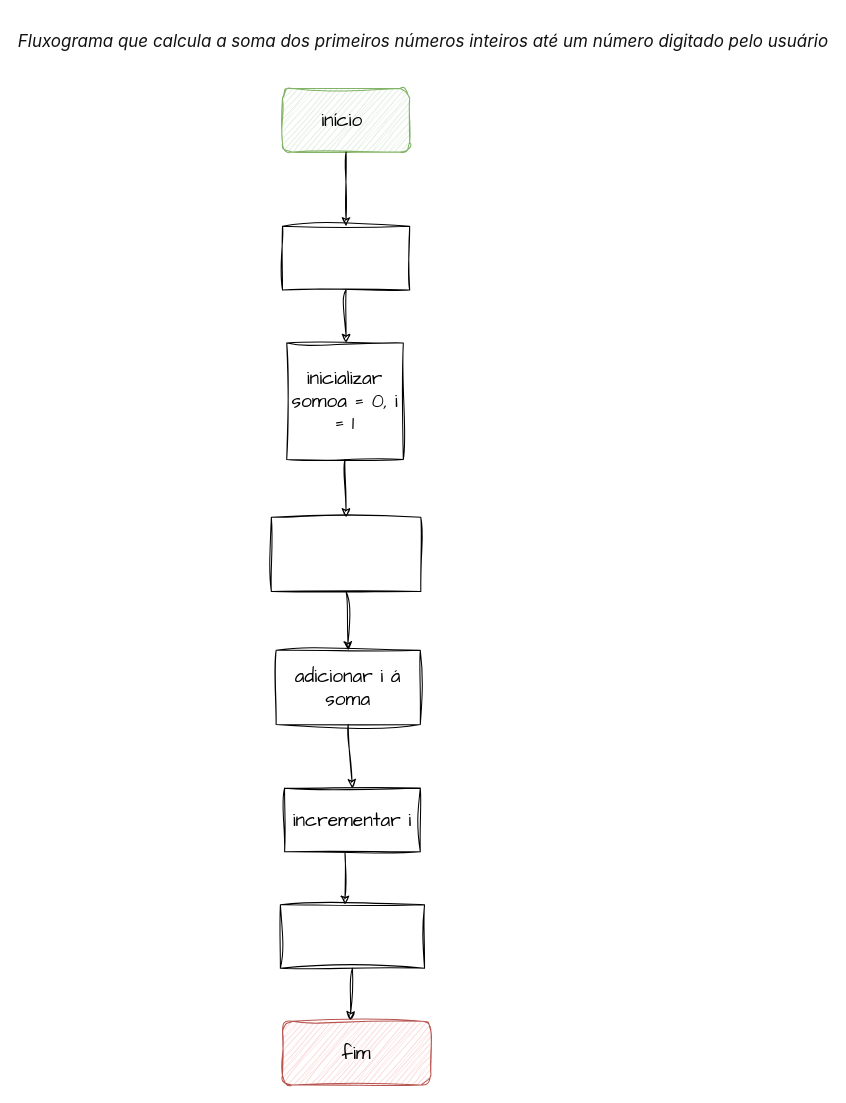
The diagram is 846 pixels wide and 1103 high, and some of its shapes have lost their labels. The shapes that lost their labels are listed below. From the top down, each one's centre as x and y in pixels, then its label:
At point 345,257: "Digite um numero inteiro (N)".
At point 345,553: "enquanto i <= N".
At point 352,936: "exibir o valor da soma".
